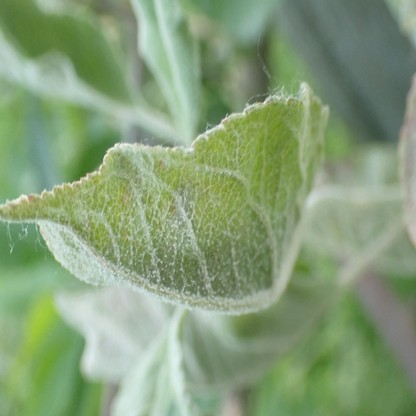powdery_mildew: (1, 83, 329, 310)
